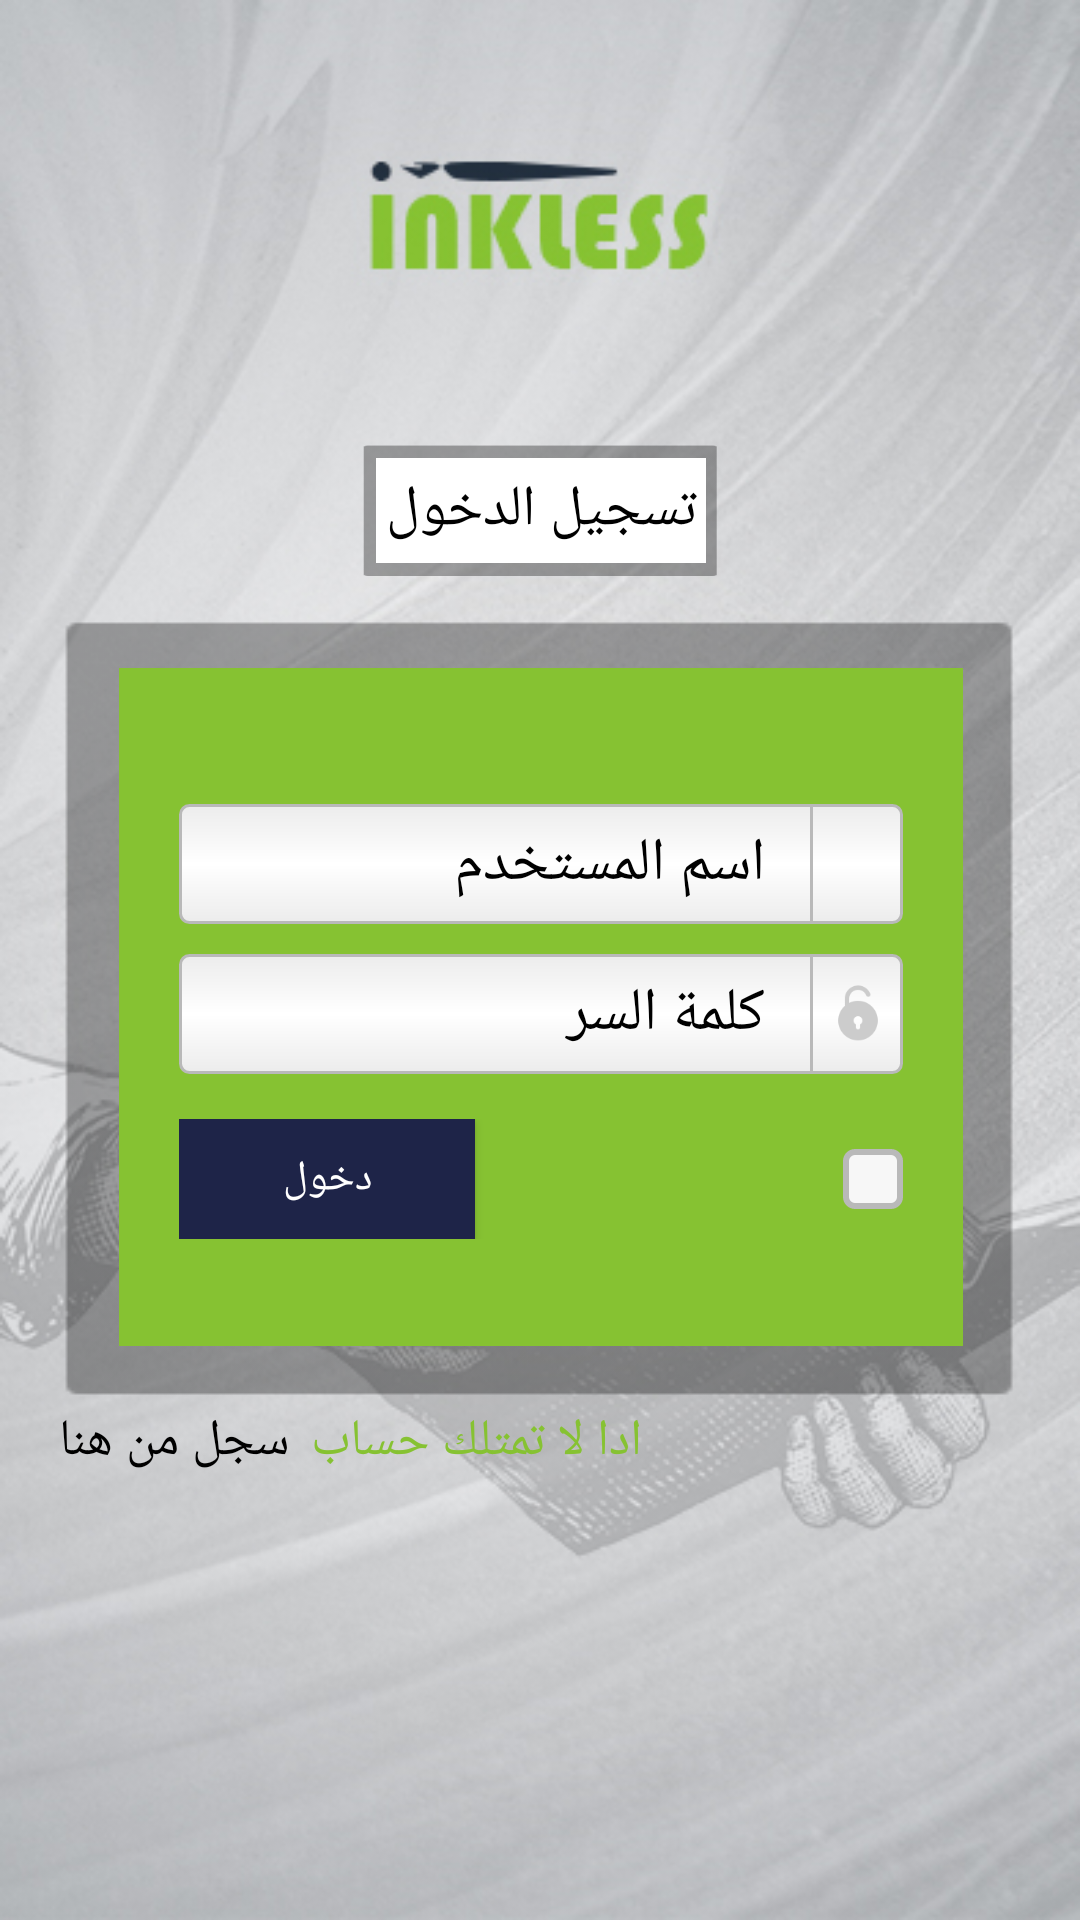

Icons on this 1080px x 1920px Android screen, each with the point to tap as [x,y]:
login mdp: [858,1014]
